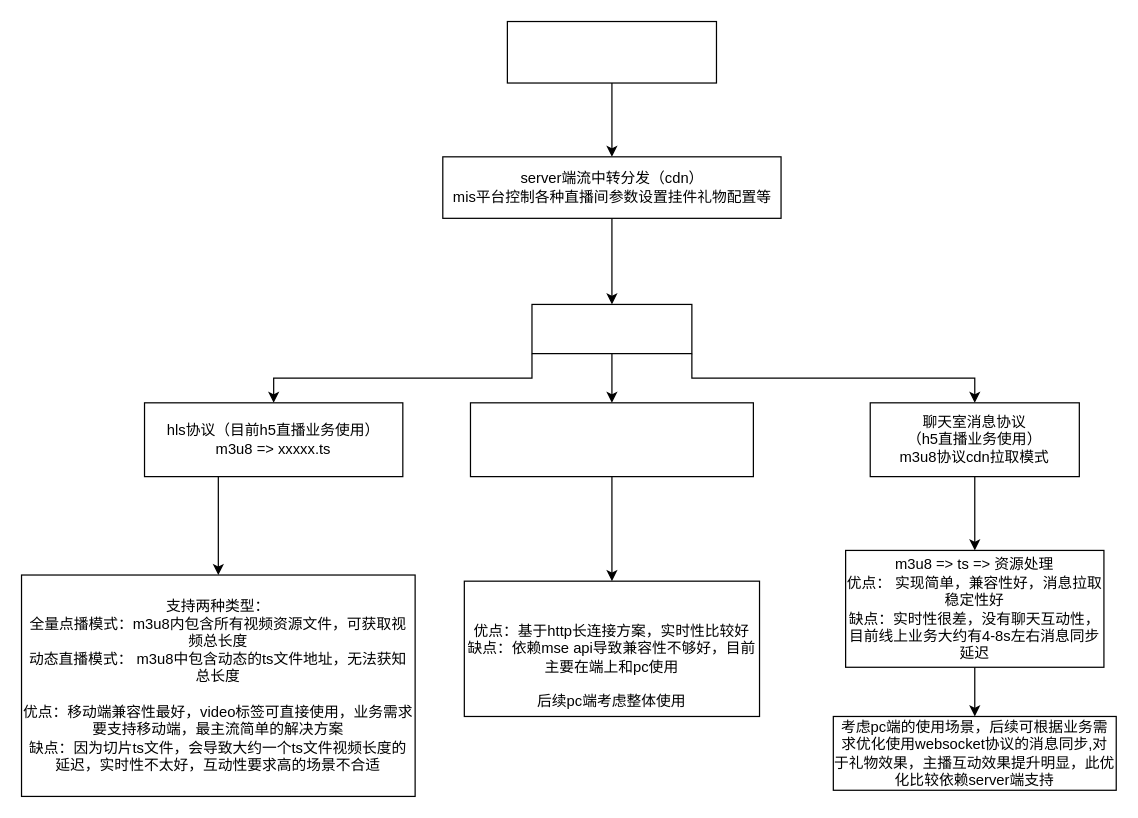
The diagram is 1138 pixels wide and 818 high, and some of its shapes have lost their labels. The centre of each missing label's shape, as x and y in pixels:
cdn拉流: [611,328]
flv协议（NA端使用） flv => media source extensions: [611,439]
pc开播工具（采流压缩推流）: [611,51]
